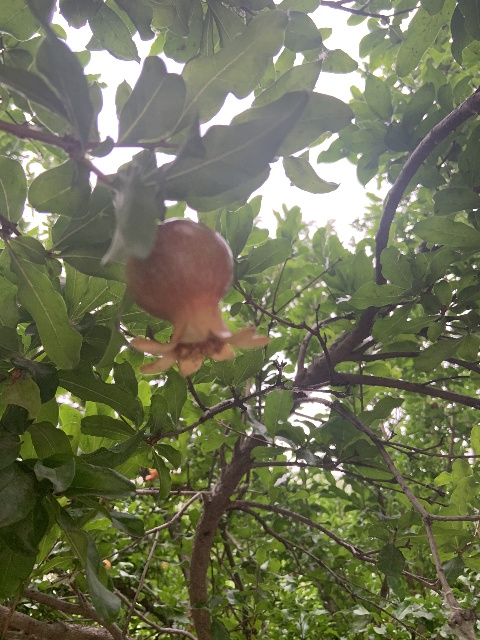early-fruit: (124, 217, 270, 377)
